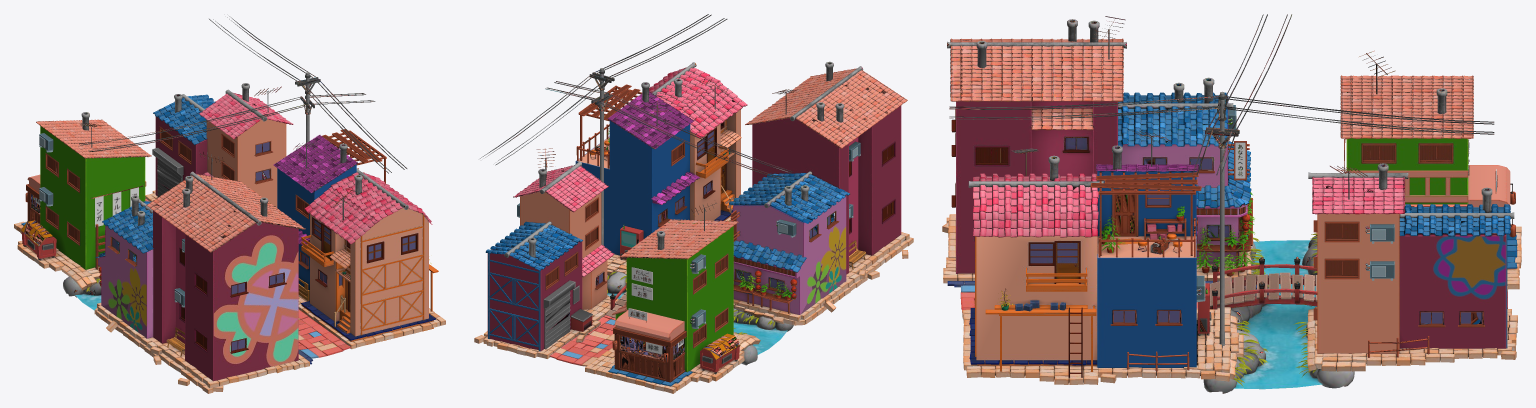
The model's file is willow-street.glb.
3 views of the same model, side by side, from view 1: azimuth 30°, elevation 25°; view 2: azimuth 150°, elevation 25°; view 3: azimuth 270°, elevation 25° (orthographic). The views are drawn at different scales.
Parts seen in each view (by area): view 1: DomekRdy_3, DomekRdy_1, DomekRdy_Ksiegarnia, DomekRdy_Ziemia, DomekRdy_4, DomekRdy_Kwiaciarnia, DomekRdy_2, DomekRdy_5; view 2: DomekRdy_3, DomekRdy_Ksiegarnia, DomekRdy_Ziemia, DomekRdy_Kwiaciarnia, DomekRdy_2, DomekRdy_5, DomekRdy_1, DomekRdy_4; view 3: DomekRdy_Ziemia, DomekRdy_3, DomekRdy_1, DomekRdy_2, DomekRdy_Ksiegarnia, DomekRdy_4, DomekRdy_5, DomekRdy_Kwiaciarnia.
Part boxes in pixels (left/top/right/bottom): DomekRdy_3: left=146, top=152, right=305, bottom=381; DomekRdy_1: left=301, top=168, right=438, bottom=344; DomekRdy_Ksiegarnia: left=20, top=112, right=151, bottom=269; DomekRdy_Ziemia: left=14, top=16, right=445, bottom=393; DomekRdy_4: left=199, top=83, right=293, bottom=207; DomekRdy_Kwiaciarnia: left=95, top=195, right=153, bottom=338; DomekRdy_2: left=273, top=129, right=386, bottom=301; DomekRdy_5: left=152, top=94, right=215, bottom=197; DomekRdy_3: left=745, top=61, right=907, bottom=274; DomekRdy_Ksiegarnia: left=608, top=203, right=740, bottom=386; DomekRdy_Ziemia: left=474, top=14, right=913, bottom=393; DomekRdy_Kwiaciarnia: left=729, top=171, right=849, bottom=314; DomekRdy_2: left=575, top=82, right=699, bottom=259; DomekRdy_5: left=485, top=221, right=592, bottom=351; DomekRdy_1: left=625, top=62, right=747, bottom=221; DomekRdy_4: left=513, top=148, right=614, bottom=309; DomekRdy_Ziemia: left=942, top=14, right=1521, bottom=393; DomekRdy_3: left=947, top=16, right=1126, bottom=274; DomekRdy_1: left=968, top=148, right=1103, bottom=377; DomekRdy_2: left=1090, top=130, right=1211, bottom=371; DomekRdy_Ksiegarnia: left=1340, top=50, right=1517, bottom=268; DomekRdy_4: left=1308, top=163, right=1429, bottom=357; DomekRdy_5: left=1399, top=187, right=1514, bottom=348; DomekRdy_Kwiaciarnia: left=1118, top=77, right=1255, bottom=276.
Size of the model in its own units: 15.53 by 11.44 by 21.45.
9 materials, 9 textured.
